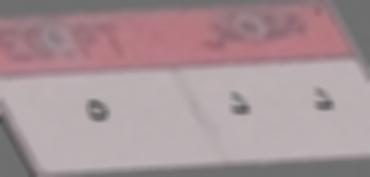5: (77, 91, 114, 126)
daal: (301, 81, 338, 118), (224, 87, 252, 124)
